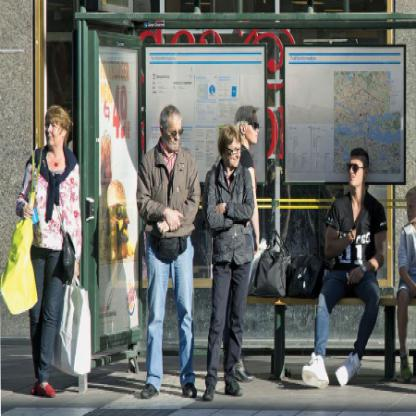Not_Wearing_Mask: (244, 110, 259, 146), (167, 118, 182, 152), (44, 117, 61, 146), (349, 157, 360, 188), (229, 139, 240, 167)
